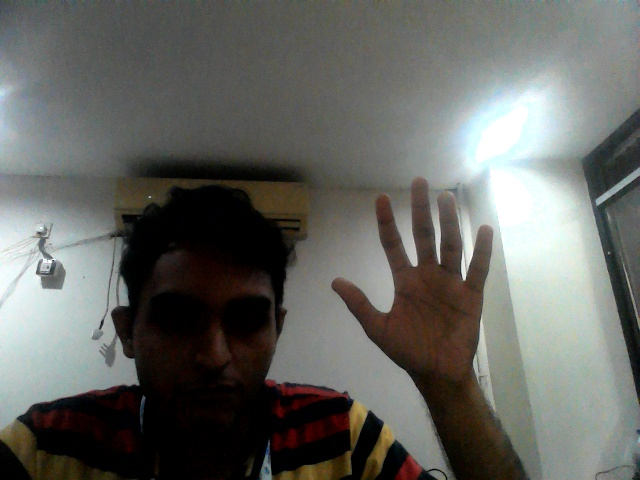palm: (323, 172, 502, 380)
